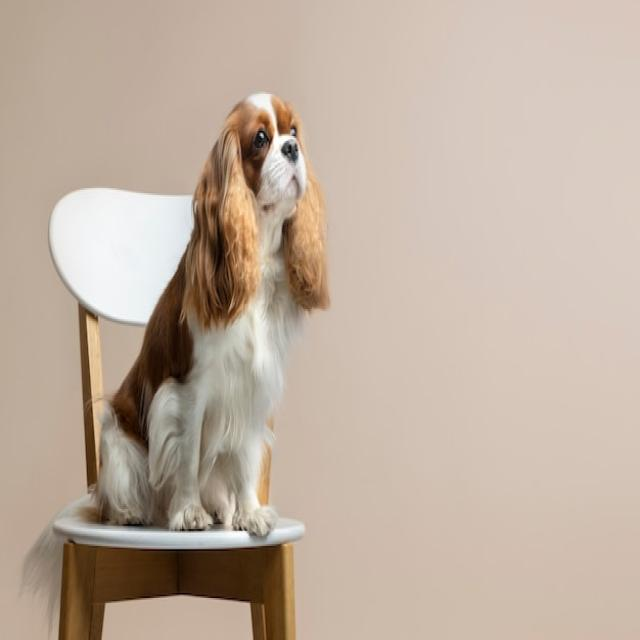Dog: (100, 90, 331, 540)
